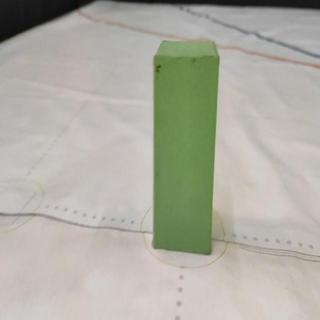greenbox: (153, 41, 222, 256)
